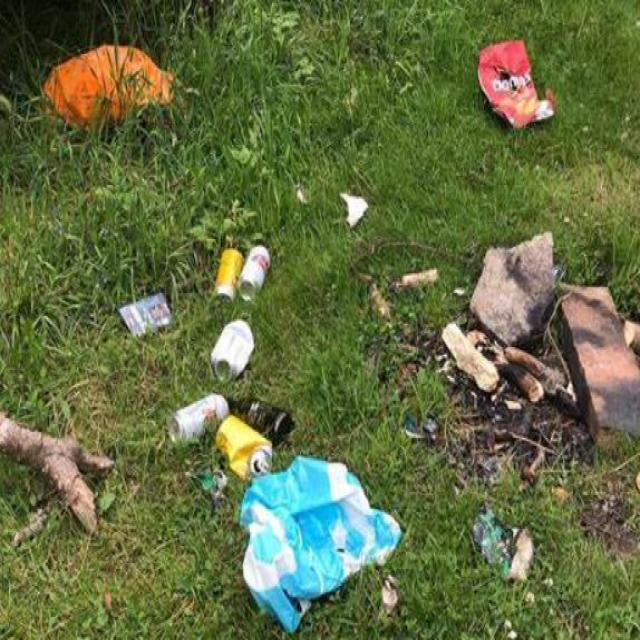metal: (209, 312, 262, 385), (241, 236, 282, 316), (213, 236, 247, 314)
paper: (46, 45, 203, 147), (116, 286, 178, 350), (334, 184, 376, 241)
plastic: (227, 451, 417, 640), (464, 26, 574, 155)
